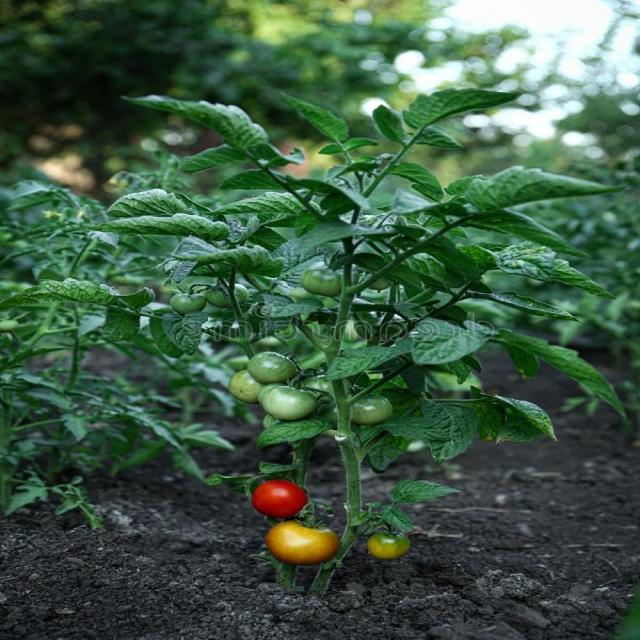tomato: (94, 88, 626, 596), (1, 181, 231, 529)
